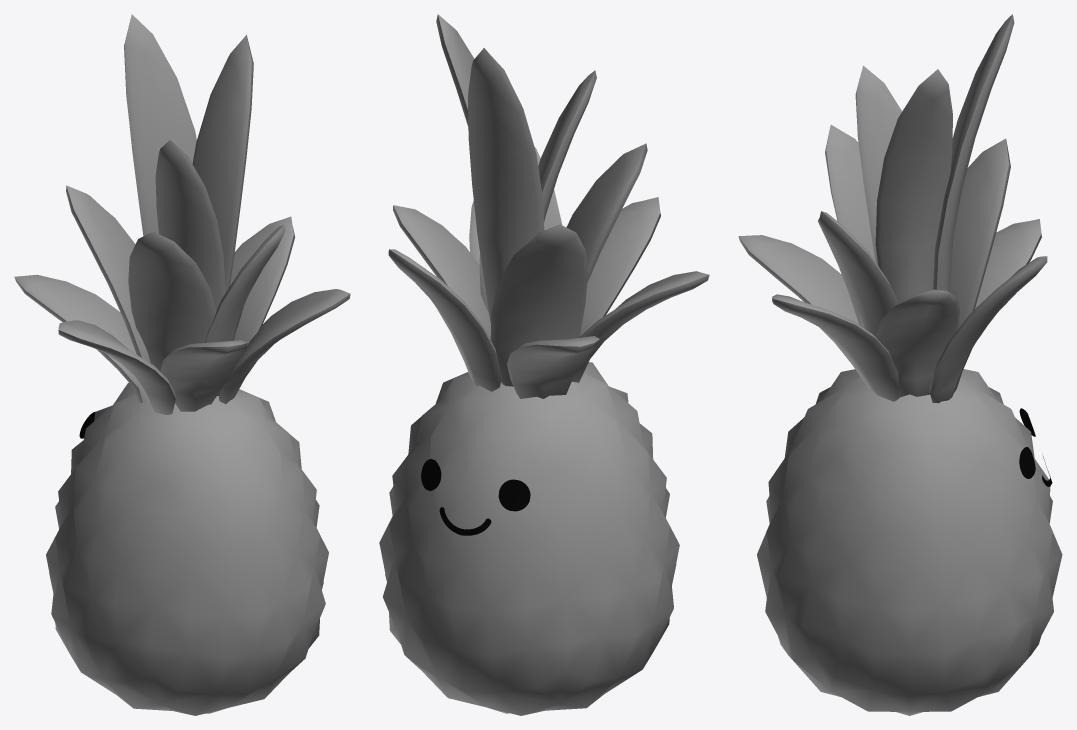
File: pineapple_smile.fbx
The picture shows the model from 3 angles, left to right: view 1: azimuth 30°, elevation 25°; view 2: azimuth 150°, elevation 25°; view 3: azimuth 270°, elevation 25°; orthographic projection. The views are drawn at different scales.
Parts seen in each view (by area): view 1: pineapple_smile; view 2: pineapple_smile; view 3: pineapple_smile.
Part boxes in pixels (<box>): pineapple_smile: <box>14,14,350,715</box>; pineapple_smile: <box>379,14,709,715</box>; pineapple_smile: <box>738,14,1062,715</box>.
Bounding box in the file's own units: 88 × 86.44 × 200.
Materials: 2 (1 with a texture image).
